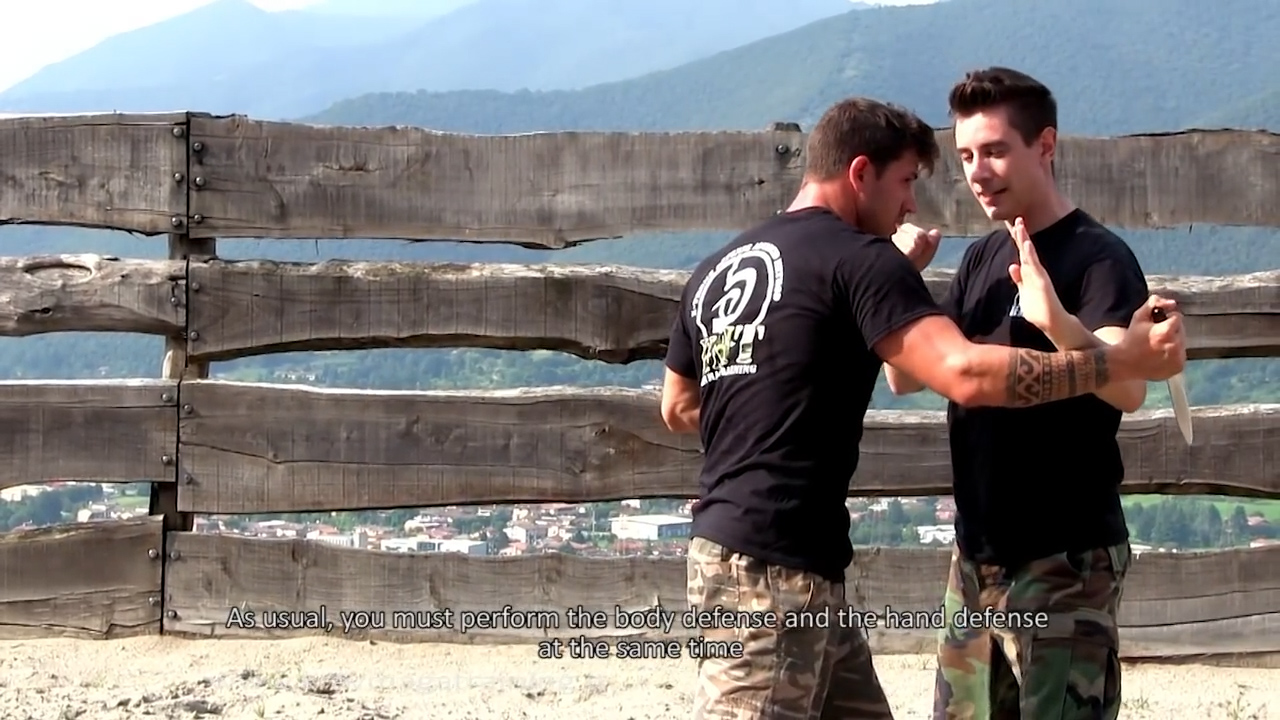knife: (1131, 291, 1198, 452)
